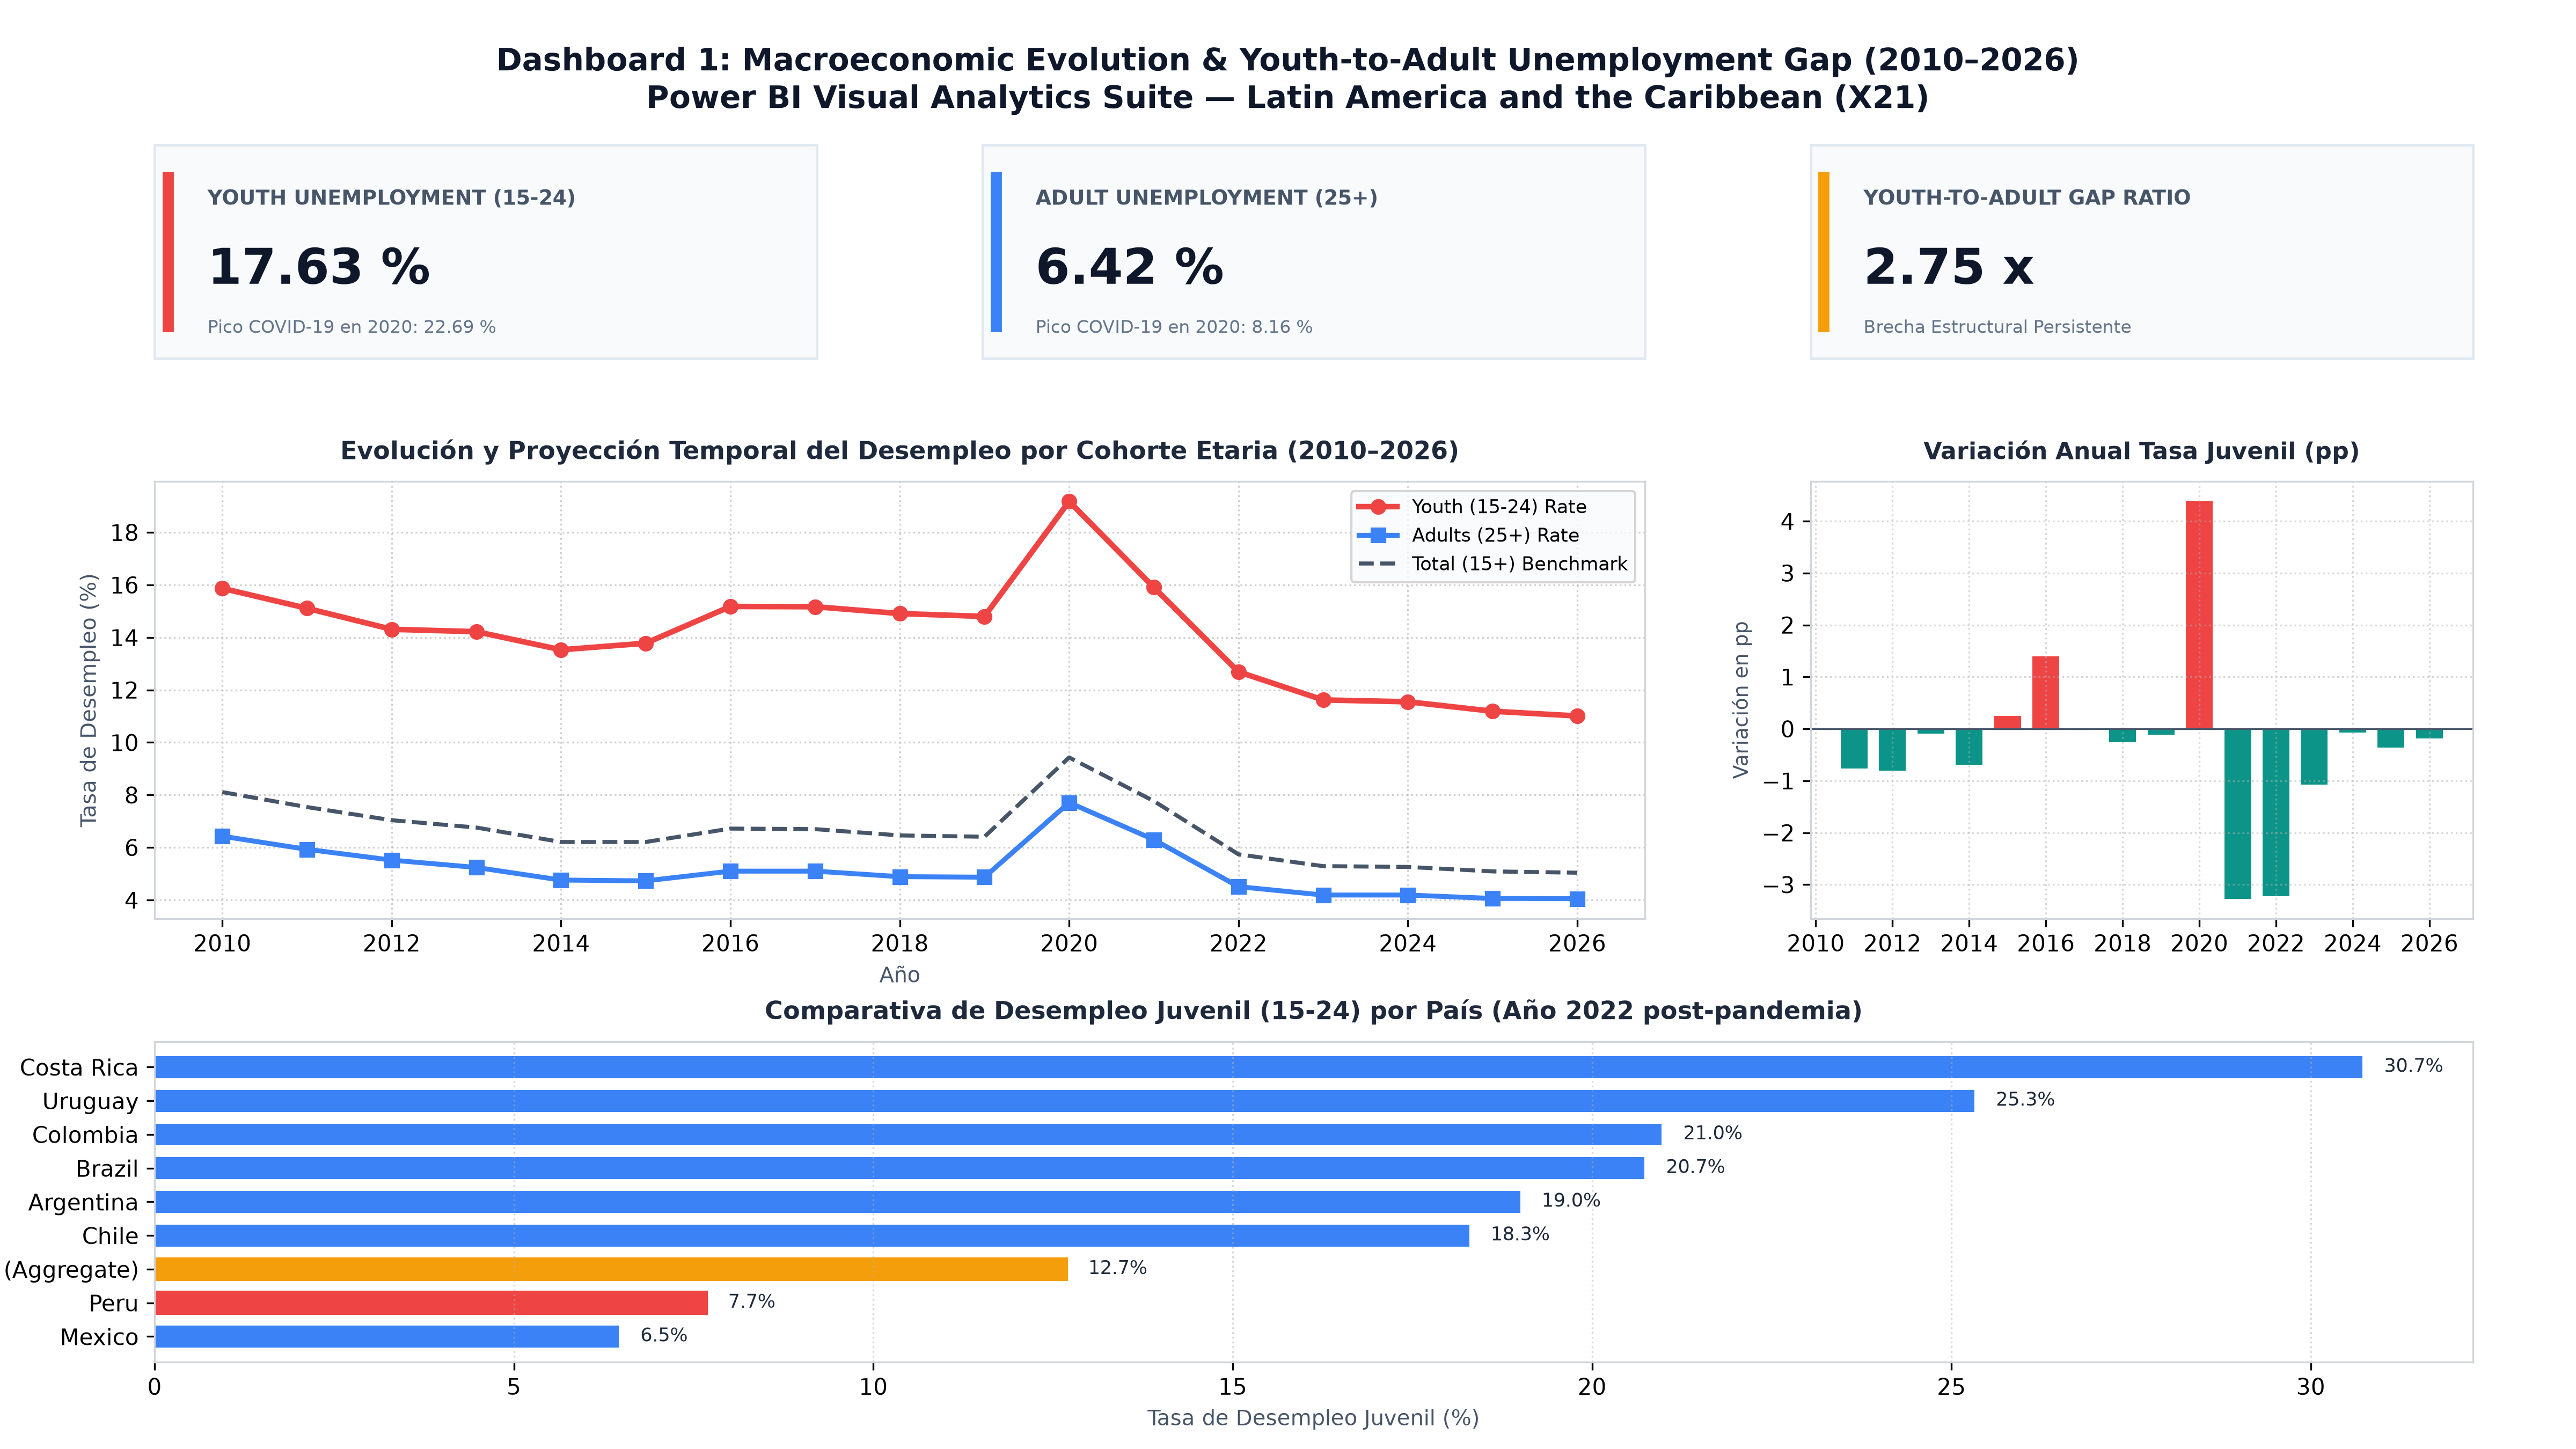

This screenshot's page, from the dashboard's own definition file:
{"tool":"powerbi","page":{"name":"01 Desempleo","canvas":[1600,1000],"ordinal":0},"visuals":[{"type":"textbox","box":[31.8,31.8,1536.5,65.3],"z":5000},{"type":"textbox","box":[32,132,1536,29],"z":6000},{"type":"slicer","fields":{"Values":["Paises.País"]},"box":[32,174,512,80],"z":7000},{"type":"slicer","fields":{"Values":["Corte.Año"]},"box":[560,174,224,80],"z":8000},{"type":"textbox","box":[1184,42,383.7,55.3],"z":9000},{"type":"card","title":"Desempleo juvenil","fields":{"Values":["Observaciones.Desempleo juvenil"]},"box":[32,272,368,140],"z":11000},{"type":"card","title":"Desempleo adulto","fields":{"Values":["Observaciones.Desempleo adulto"]},"box":[416,272,368,140],"z":12000},{"type":"card","title":"Ratio de las tasas medias","fields":{"Values":["Observaciones.Ratio juvenil adulto"]},"box":[800,272,368,140],"z":13000},{"type":"card","title":"Cambio juvenil frente al año previo","fields":{"Values":["Observaciones.Variación anual juvenil"]},"box":[1184,272,368,140],"z":14000},{"type":"lineChart","title":"Desempleo por cohorte","fields":{"Category":["Anios.Año"],"Y":["Observaciones.Jóvenes","Observaciones.Adultos"]},"box":[32,422,976,280],"z":15000},{"type":"clusteredColumnChart","title":"Variación anual juvenil","fields":{"Category":["Anios.Año"],"Y":["Observaciones.Cambio anual juvenil"]},"box":[32,716,976,266],"z":16000},{"type":"clusteredBarChart","title":"Ranking de desempleo juvenil","fields":{"Category":["Paises.País"],"Y":["Observaciones.Desempleo juvenil"]},"box":[1024,422,544,560],"z":17000}]}

Visuals, with their boxes on the page's 1600x1000 design canvas (x1, y1, x2, y2). These are canvas units, not pixel positions in the 2576x1449 screenshot, which may show the page scaled, cropped or inside an application window:
textbox: x1=32, y1=32, x2=1568, y2=97
textbox: x1=32, y1=132, x2=1568, y2=161
slicer - Paises.País: x1=32, y1=174, x2=544, y2=254
slicer - Corte.Año: x1=560, y1=174, x2=784, y2=254
textbox: x1=1184, y1=42, x2=1568, y2=97
"Desempleo juvenil" card: x1=32, y1=272, x2=400, y2=412
"Desempleo adulto" card: x1=416, y1=272, x2=784, y2=412
"Ratio de las tasas medias" card: x1=800, y1=272, x2=1168, y2=412
"Cambio juvenil frente al año previo" card: x1=1184, y1=272, x2=1552, y2=412
"Desempleo por cohorte" lineChart: x1=32, y1=422, x2=1008, y2=702
"Variación anual juvenil" clusteredColumnChart: x1=32, y1=716, x2=1008, y2=982
"Ranking de desempleo juvenil" clusteredBarChart: x1=1024, y1=422, x2=1568, y2=982
